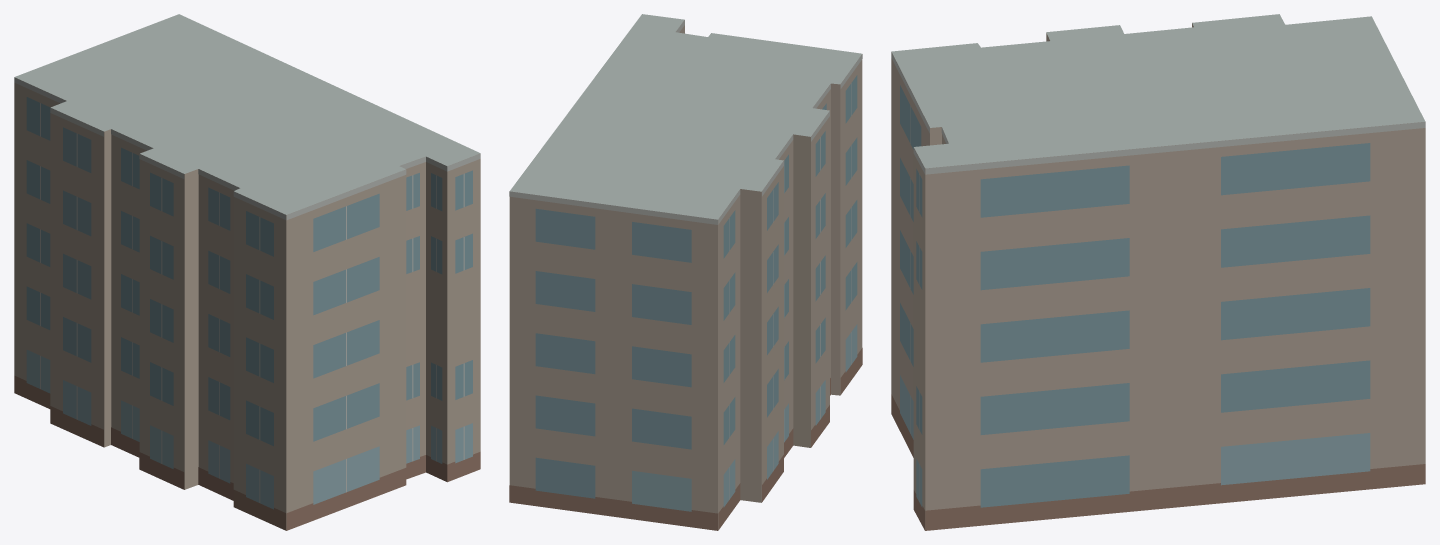
File: survey-upis-32505054.glb
3 views of the same model, side by side, from view 1: azimuth 30°, elevation 25°; view 2: azimuth 150°, elevation 25°; view 3: azimuth 270°, elevation 25° (orthographic). The views are drawn at different scales.
Parts seen in each view (by area): view 1: survey-upis-32505054.tmp; view 2: survey-upis-32505054.tmp; view 3: survey-upis-32505054.tmp.
Boxes of the visible parts, left/top/right/bottom form: survey-upis-32505054.tmp: left=14, top=14, right=480, bottom=530; survey-upis-32505054.tmp: left=509, top=14, right=862, bottom=530; survey-upis-32505054.tmp: left=891, top=14, right=1425, bottom=530.
Bounding box in the file's own units: 13.08 × 14.3 × 19.11.
